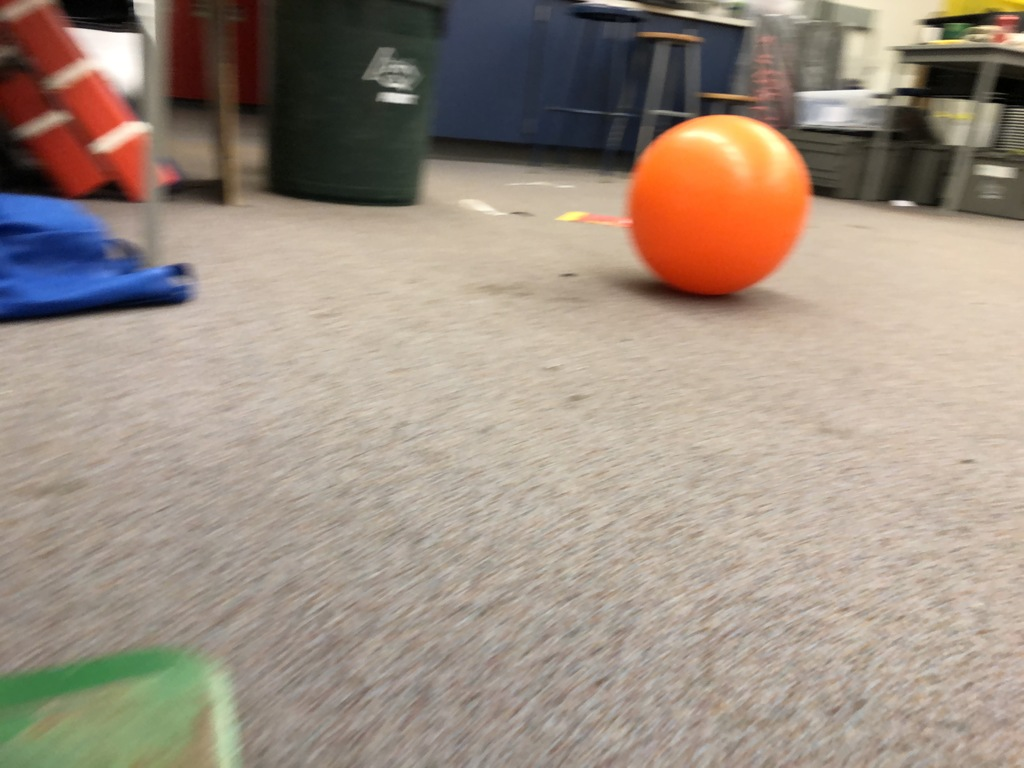cargo: (626, 104, 819, 305)
